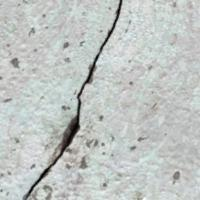crack: (23, 0, 129, 199)
